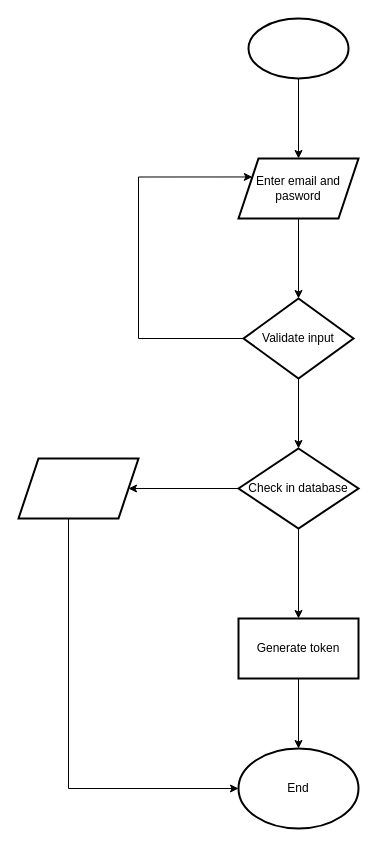
Image size: 376x846. Some labels were removed from this diagram. Each missing label, with the centre of its shape:
"Login failed" belongs at (78,488).
"Start" belongs at (298,48).
